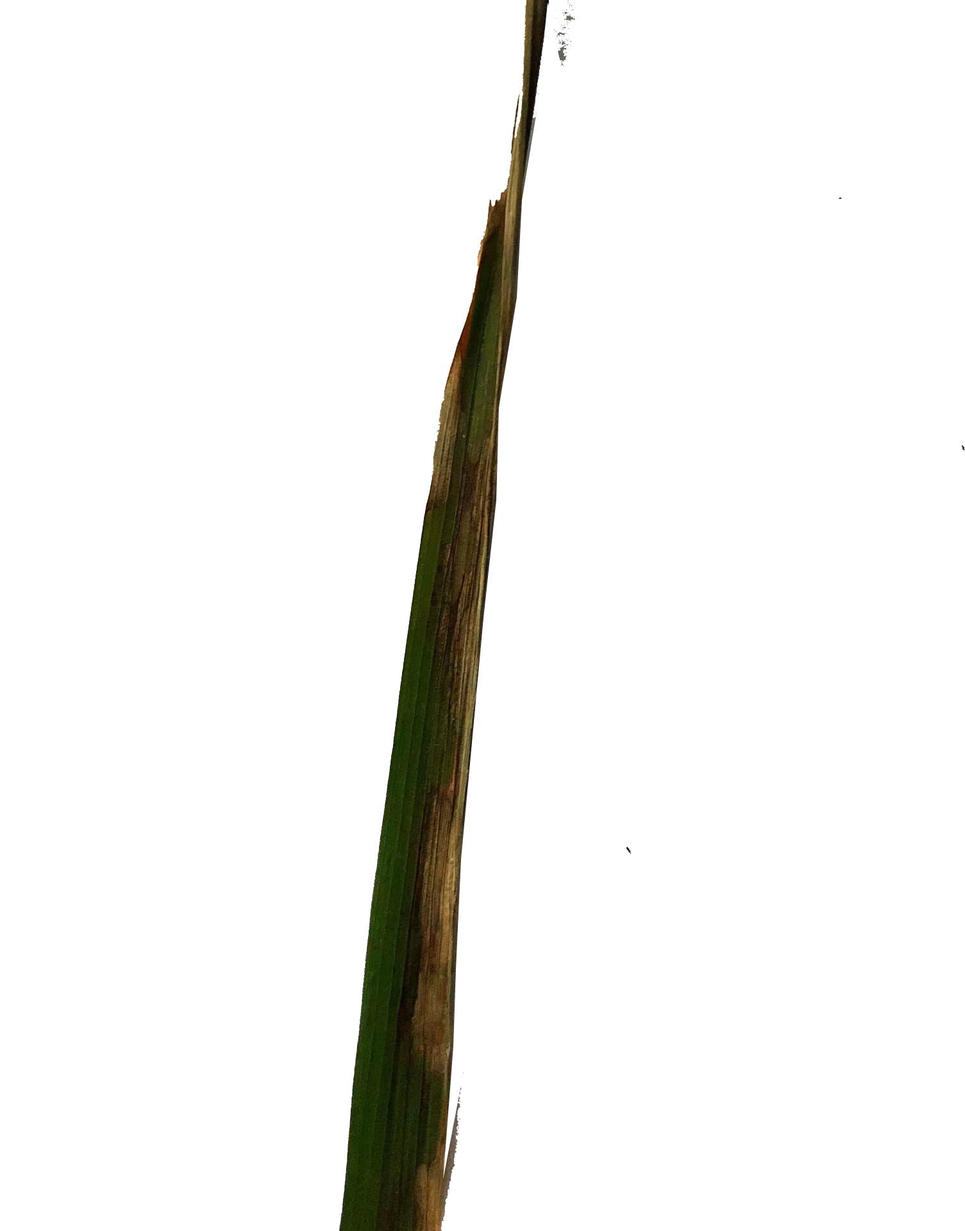Blight: (446, 414, 497, 731), (414, 779, 458, 1074), (407, 1119, 468, 1231), (439, 353, 468, 510)
